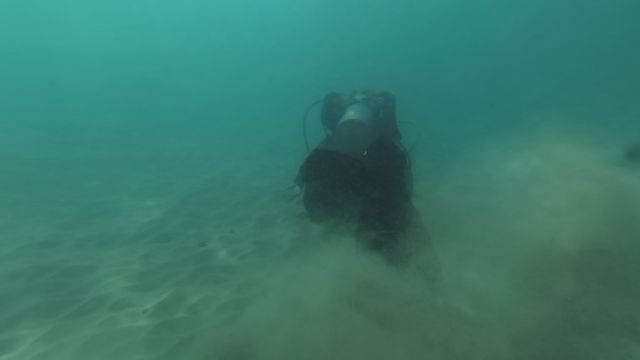Diver: (290, 81, 429, 251)
